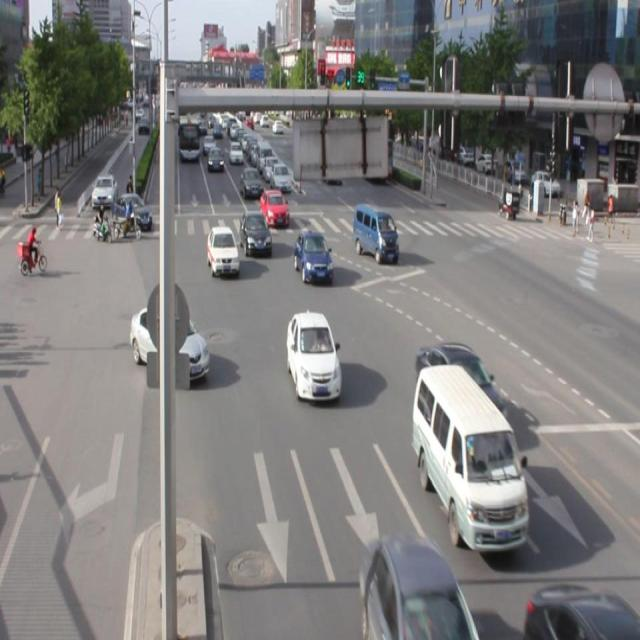car: (360, 533, 478, 640), (416, 340, 505, 423), (520, 580, 640, 640), (129, 301, 211, 378), (285, 310, 341, 400), (295, 230, 333, 283), (207, 224, 239, 276), (239, 212, 272, 256)
truck: (413, 361, 527, 549), (353, 204, 397, 262)
